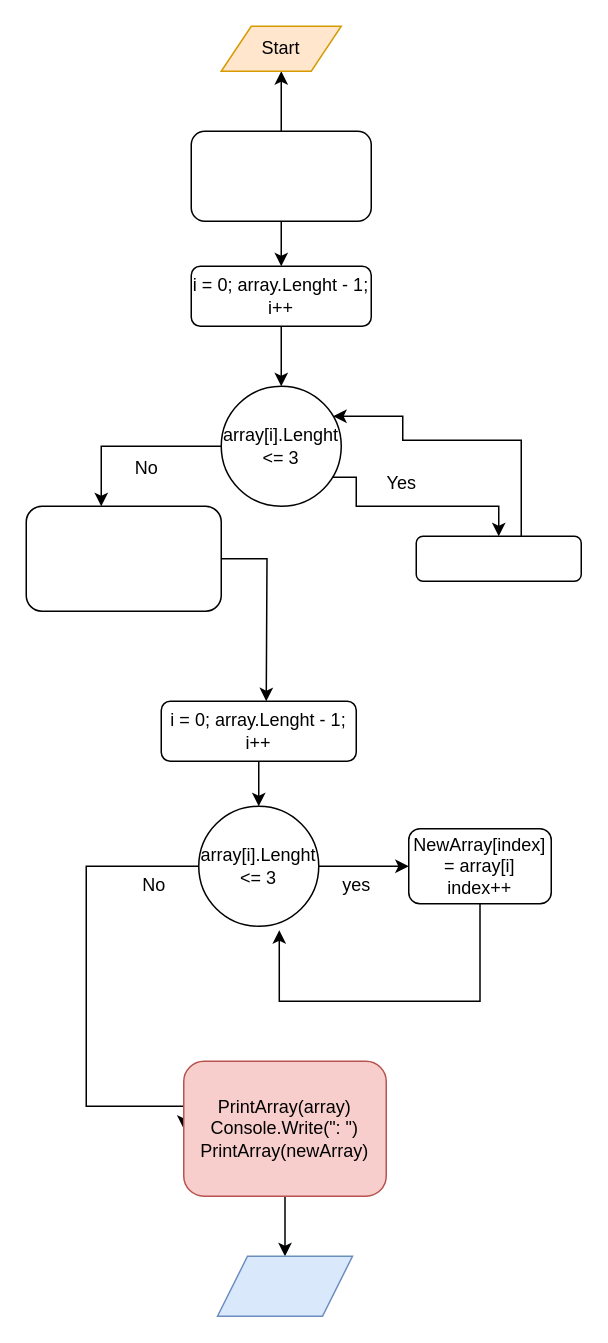
Image size: 608x1343. Some labels were removed from this diagram. Each missing label, with the centre of its shape:
End: [284,1285]
NewArrayLenght++: [498,558]
string[] array = new string[] {"Rice", "Chicken", "Noodles", "Pizza"}: [280,175]
string[] newArray = new string[NewArrayLenght] int index = 0: [123,558]
